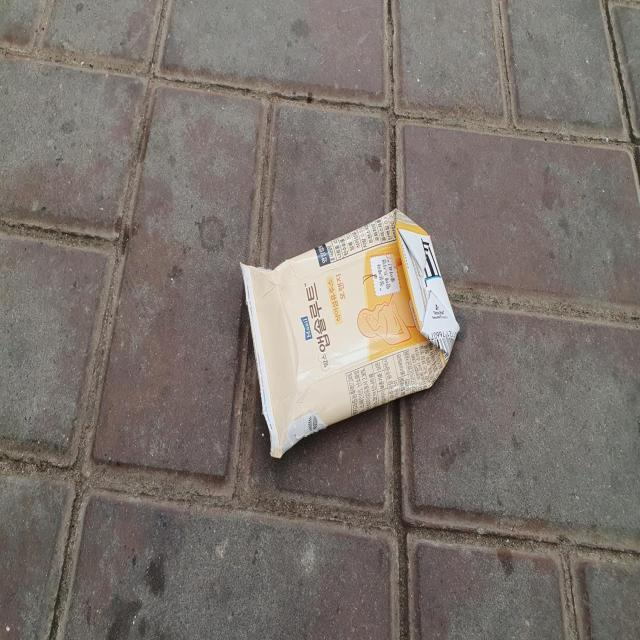paperpack: (241, 209, 460, 458)
